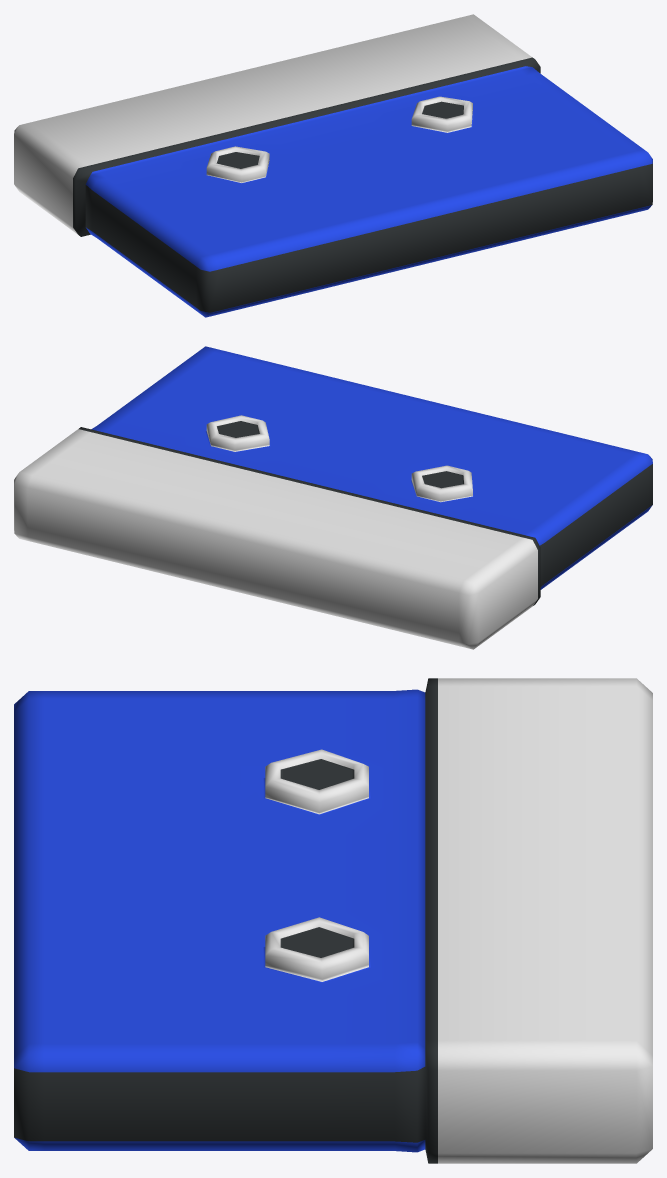
The model's file is cassette.fbx.
The picture shows the model from 3 angles, top to bottom: view 1: azimuth 30°, elevation 25°; view 2: azimuth 150°, elevation 25°; view 3: azimuth 270°, elevation 25°; orthographic projection. The views are drawn at different scales.
Visible parts, largest first — view 1: Cube.002; view 2: Cube.002; view 3: Cube.002.
Boxes of the visible parts, left/top/right/bottom form: Cube.002: left=14, top=14, right=652, bottom=317; Cube.002: left=14, top=346, right=652, bottom=649; Cube.002: left=14, top=678, right=652, bottom=1163.
Bounding box in the file's own units: 103 × 15.26 × 73.
